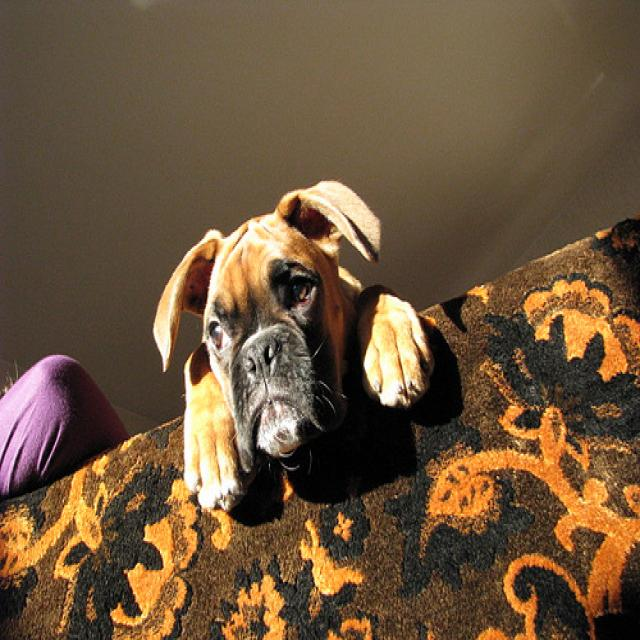dog-boxer: (148, 169, 440, 512)
